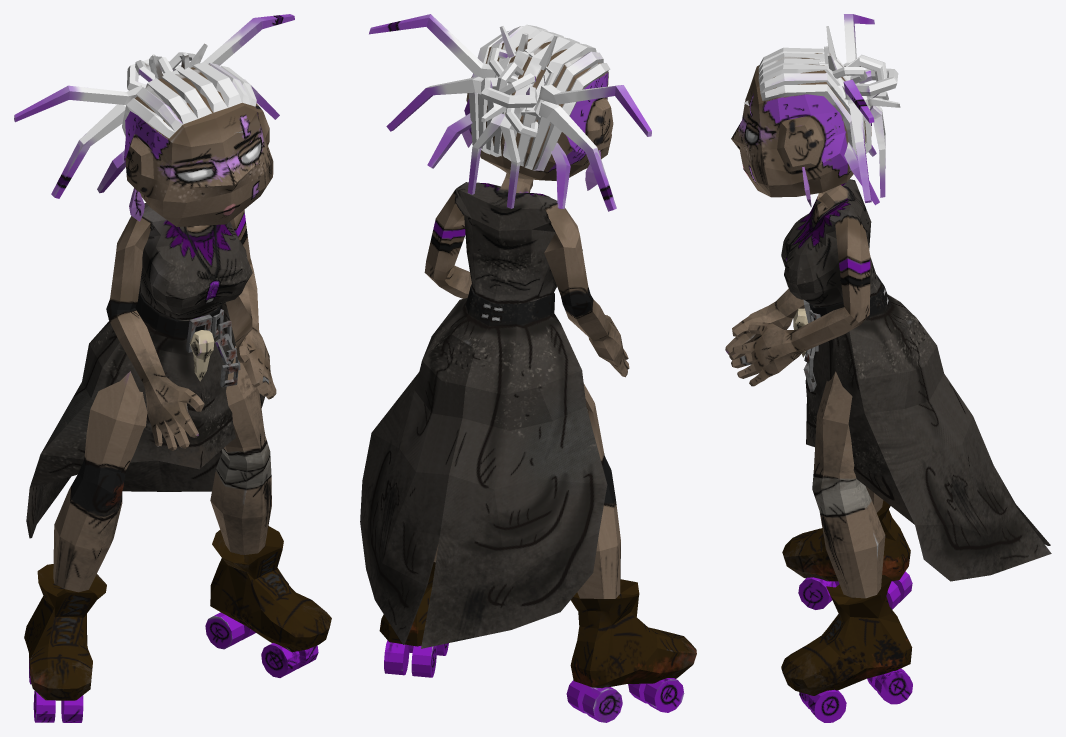
The model's file is bruja_000036.obj.
The picture shows the model from 3 angles, left to right: view 1: azimuth 30°, elevation 25°; view 2: azimuth 150°, elevation 25°; view 3: azimuth 270°, elevation 25°; orthographic projection. The views are drawn at different scales.
Visible parts, largest first — view 1: Bruja_Plane.001; view 2: Bruja_Plane.001; view 3: Bruja_Plane.001.
Part boxes in pixels (x1,y1,x2,y2): Bruja_Plane.001: (14, 14, 331, 722); Bruja_Plane.001: (360, 14, 696, 722); Bruja_Plane.001: (725, 14, 1051, 722).
Bounding box in the file's own units: 7.83 × 16.38 × 7.75.
